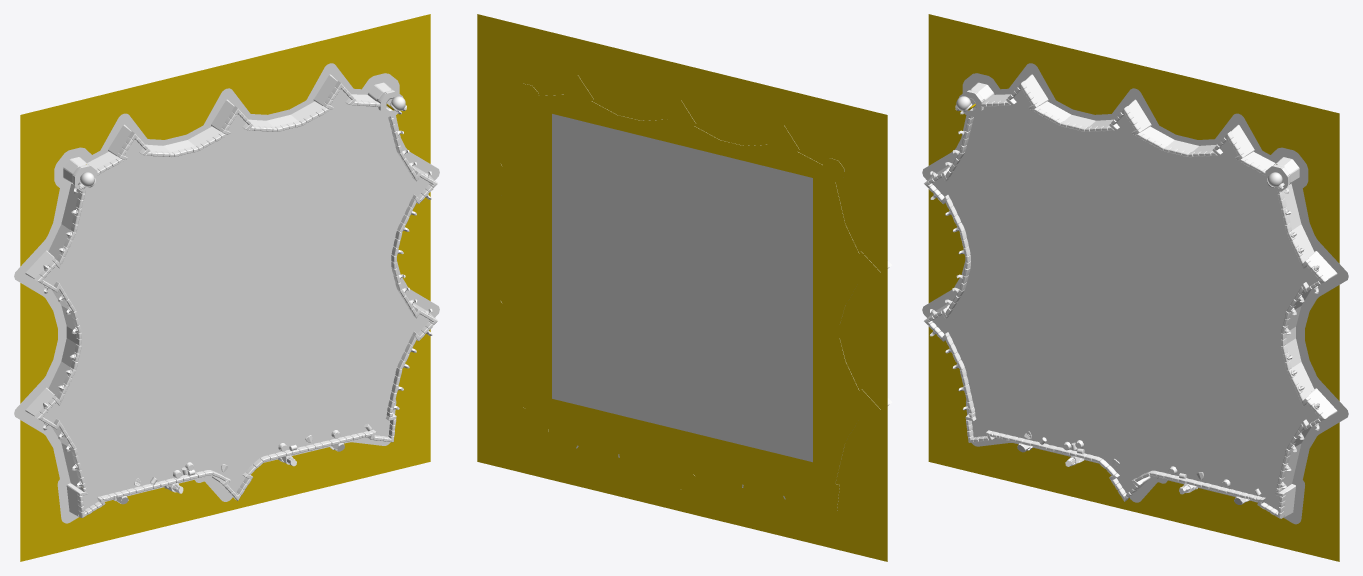
Rendered from bgr_mad_evil_manor_showdown_ground_geo.glb.
3 views of the same model, side by side, from view 1: azimuth 30°, elevation 25°; view 2: azimuth 150°, elevation 25°; view 3: azimuth 330°, elevation 25° (orthographic).
Visible parts, largest first — view 1: ground.005, ground_3vs3.014, ground.002, lava_glow__lowperf.001, ground.003, ground.004, Vert.013, Vert.018, Vert.020, ground.006, Vert.019, Cylinder.144; view 2: ground_3vs3.014, ground_plane.001; view 3: ground.005, ground_3vs3.014, ground.002, lava_glow__lowperf.001, ground.003, ground.004, Vert.013, Vert.018, Vert.020, ground.006, Vert.019, Cylinder.144.
Part boxes in pixels (x1=…): ground.005: x1=43, y1=89, x2=429, y2=510; ground_3vs3.014: x1=20, y1=14, x2=430, y2=561; ground.002: x1=112, y1=165, x2=358, y2=432; lava_glow__lowperf.001: x1=14, y1=63, x2=439, y2=523; ground.003: x1=103, y1=133, x2=367, y2=464; ground.004: x1=90, y1=113, x2=380, y2=485; Vert.013: x1=34, y1=116, x2=438, y2=487; Vert.018: x1=76, y1=411, x2=396, y2=517; Vert.020: x1=95, y1=100, x2=380, y2=174; ground.006: x1=217, y1=153, x2=254, y2=445; Vert.019: x1=116, y1=81, x2=355, y2=159; Cylinder.144: x1=75, y1=91, x2=403, y2=191; ground_3vs3.014: x1=477, y1=14, x2=887, y2=561; ground_plane.001: x1=552, y1=114, x2=812, y2=462; ground.005: x1=932, y1=89, x2=1319, y2=510; ground_3vs3.014: x1=928, y1=14, x2=1339, y2=561; ground.002: x1=1004, y1=164, x2=1250, y2=433; lava_glow__lowperf.001: x1=922, y1=63, x2=1348, y2=524; ground.003: x1=994, y1=133, x2=1259, y2=464; ground.004: x1=982, y1=113, x2=1272, y2=485; Vert.013: x1=924, y1=116, x2=1328, y2=488; Vert.018: x1=965, y1=412, x2=1286, y2=518; Vert.020: x1=981, y1=100, x2=1266, y2=175; ground.006: x1=1109, y1=153, x2=1146, y2=447; Vert.019: x1=1006, y1=81, x2=1245, y2=160; Cylinder.144: x1=959, y1=91, x2=1287, y2=191.
Bounding box in the file's own units: 87.7 × 88.15 × 7.2.
